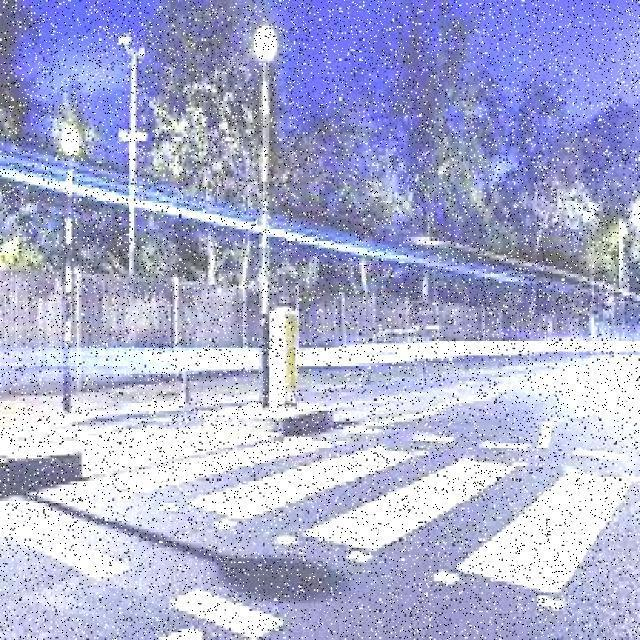Pedestrian crosswalk: (120, 428, 614, 574)
